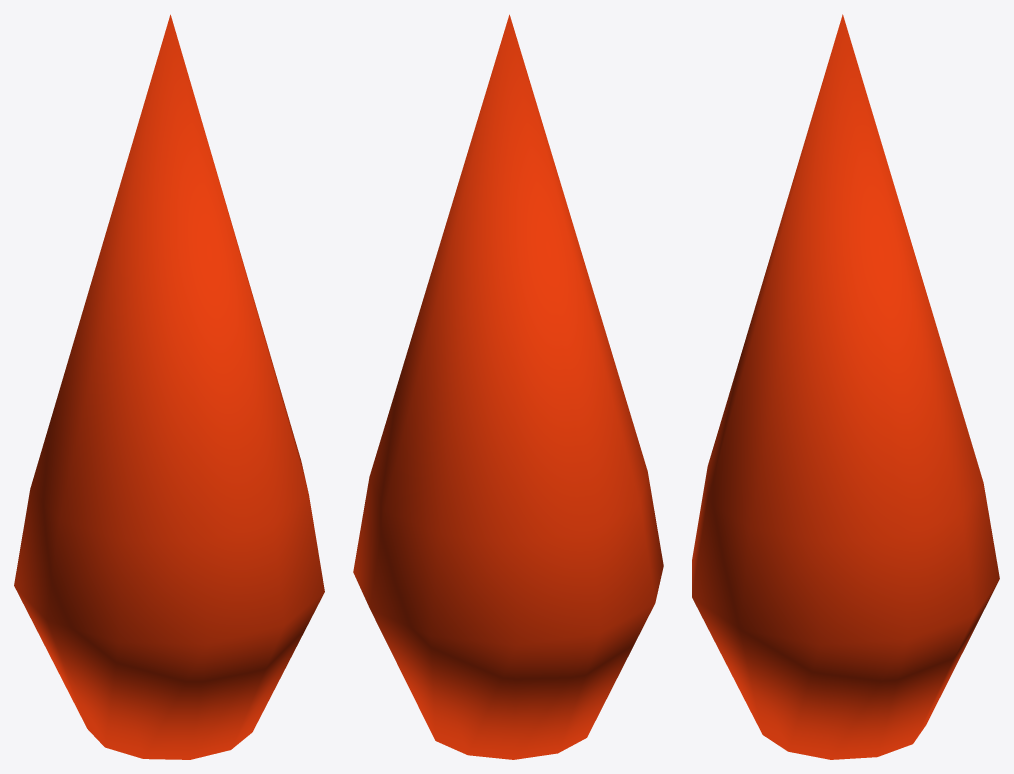
File: bullet.glb
3 renders of one model, left to right at view 1: azimuth 30°, elevation 25°; view 2: azimuth 150°, elevation 25°; view 3: azimuth 270°, elevation 25°, orthographic.
Visible parts, largest first — view 1: bullet; view 2: bullet; view 3: bullet.
Boxes of the visible parts, x1,y1,x2,y2 form: bullet: (14, 14, 324, 759); bullet: (353, 14, 663, 759); bullet: (692, 14, 999, 759).
Size of the model in its own units: 0.481 by 1.21 by 0.4761.
